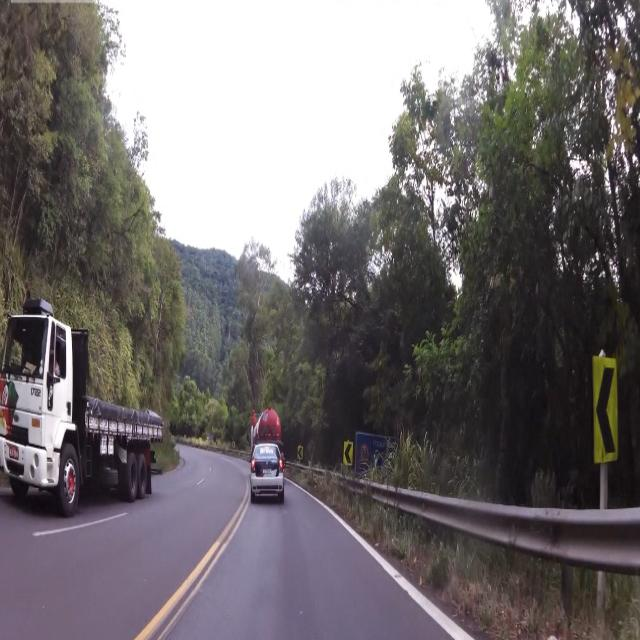Del: (587, 349, 627, 472)
